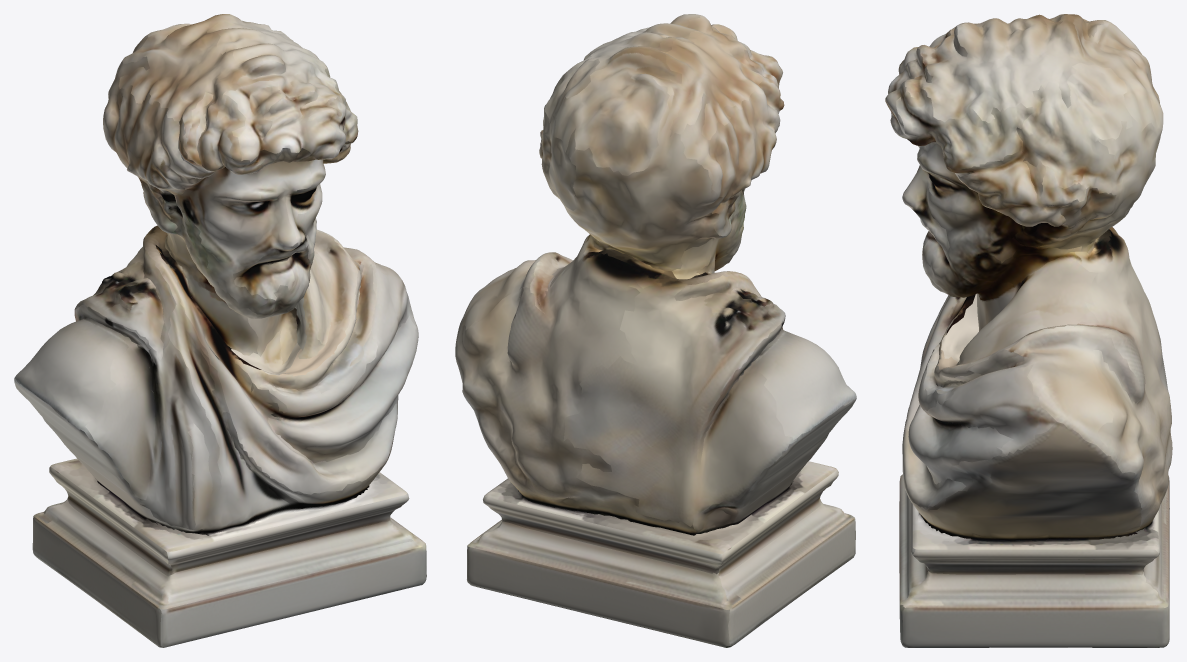
Rendered from ministatue.fbx.
The picture shows the model from 3 angles, left to right: view 1: azimuth 30°, elevation 25°; view 2: azimuth 150°, elevation 25°; view 3: azimuth 270°, elevation 25°; orthographic projection. The views are drawn at different scales.
Parts seen in each view (by area): view 1: tmp18h75zjp.ply; view 2: tmp18h75zjp.ply; view 3: tmp18h75zjp.ply.
Boxes of the visible parts, left/top/right/bottom form: tmp18h75zjp.ply: left=14, top=14, right=426, bottom=647; tmp18h75zjp.ply: left=455, top=14, right=856, bottom=647; tmp18h75zjp.ply: left=885, top=14, right=1172, bottom=647.
Bounding box in the file's own units: 69.35 × 98.88 × 46.
1 material, 1 textured.
